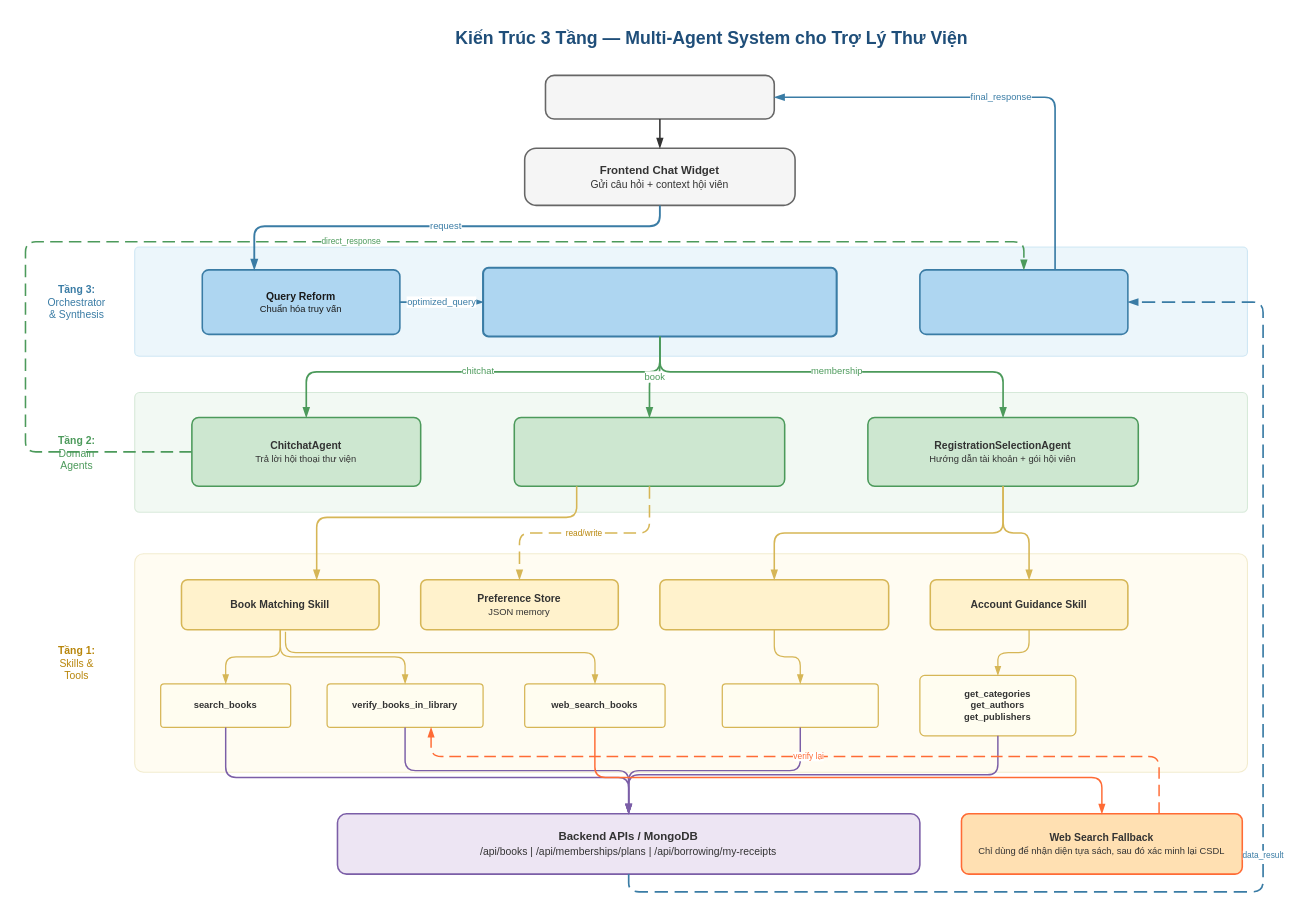
This 1302x918 diagram has some shape labels left out. The shapes that lost their labels are listed below. From the top down, each one's centre as x and y in pixels, then its label:
At point 659,96: "👤 Người dùng".
At point 659,301: "OrchestratorAgent Intent routing | chọn agent nghiệp vụ".
At point 1023,302: "SynthesisAgent Tổng hợp text + UI payload".
At point 649,451: "RecommendationAgent Tư vấn sách, kiểm tra sách trong CSDL".
At point 774,604: "Membership Comparison Skill".
At point 799,705: "get_membership_plans".
